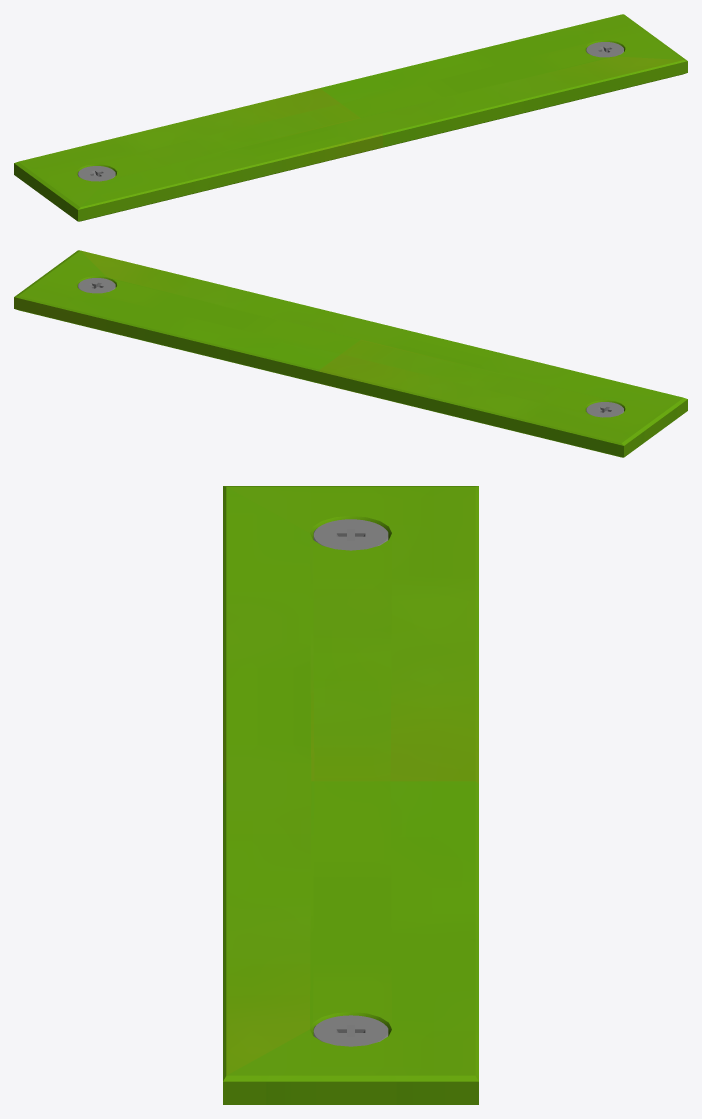
File: BoltedPlankGreen.fbx
3 renders of one model, top to bottom at view 1: azimuth 30°, elevation 25°; view 2: azimuth 150°, elevation 25°; view 3: azimuth 270°, elevation 25°, orthographic. The views are drawn at different scales.
Visible parts, largest first — view 1: Cube, Cube.001; view 2: Cube, Cube.001; view 3: Cube, Cube.001.
Part boxes in pixels (x1=…): Cube: x1=14, y1=14, x2=687, y2=221; Cube.001: x1=78, y1=42, x2=623, y2=181; Cube: x1=14, y1=250, x2=687, y2=457; Cube.001: x1=78, y1=278, x2=623, y2=417; Cube: x1=223, y1=486, x2=478, y2=1104; Cube.001: x1=313, y1=519, x2=388, y2=1046.
Bounding box in the file's own units: 21.97 × 0.4885 × 3.99.
